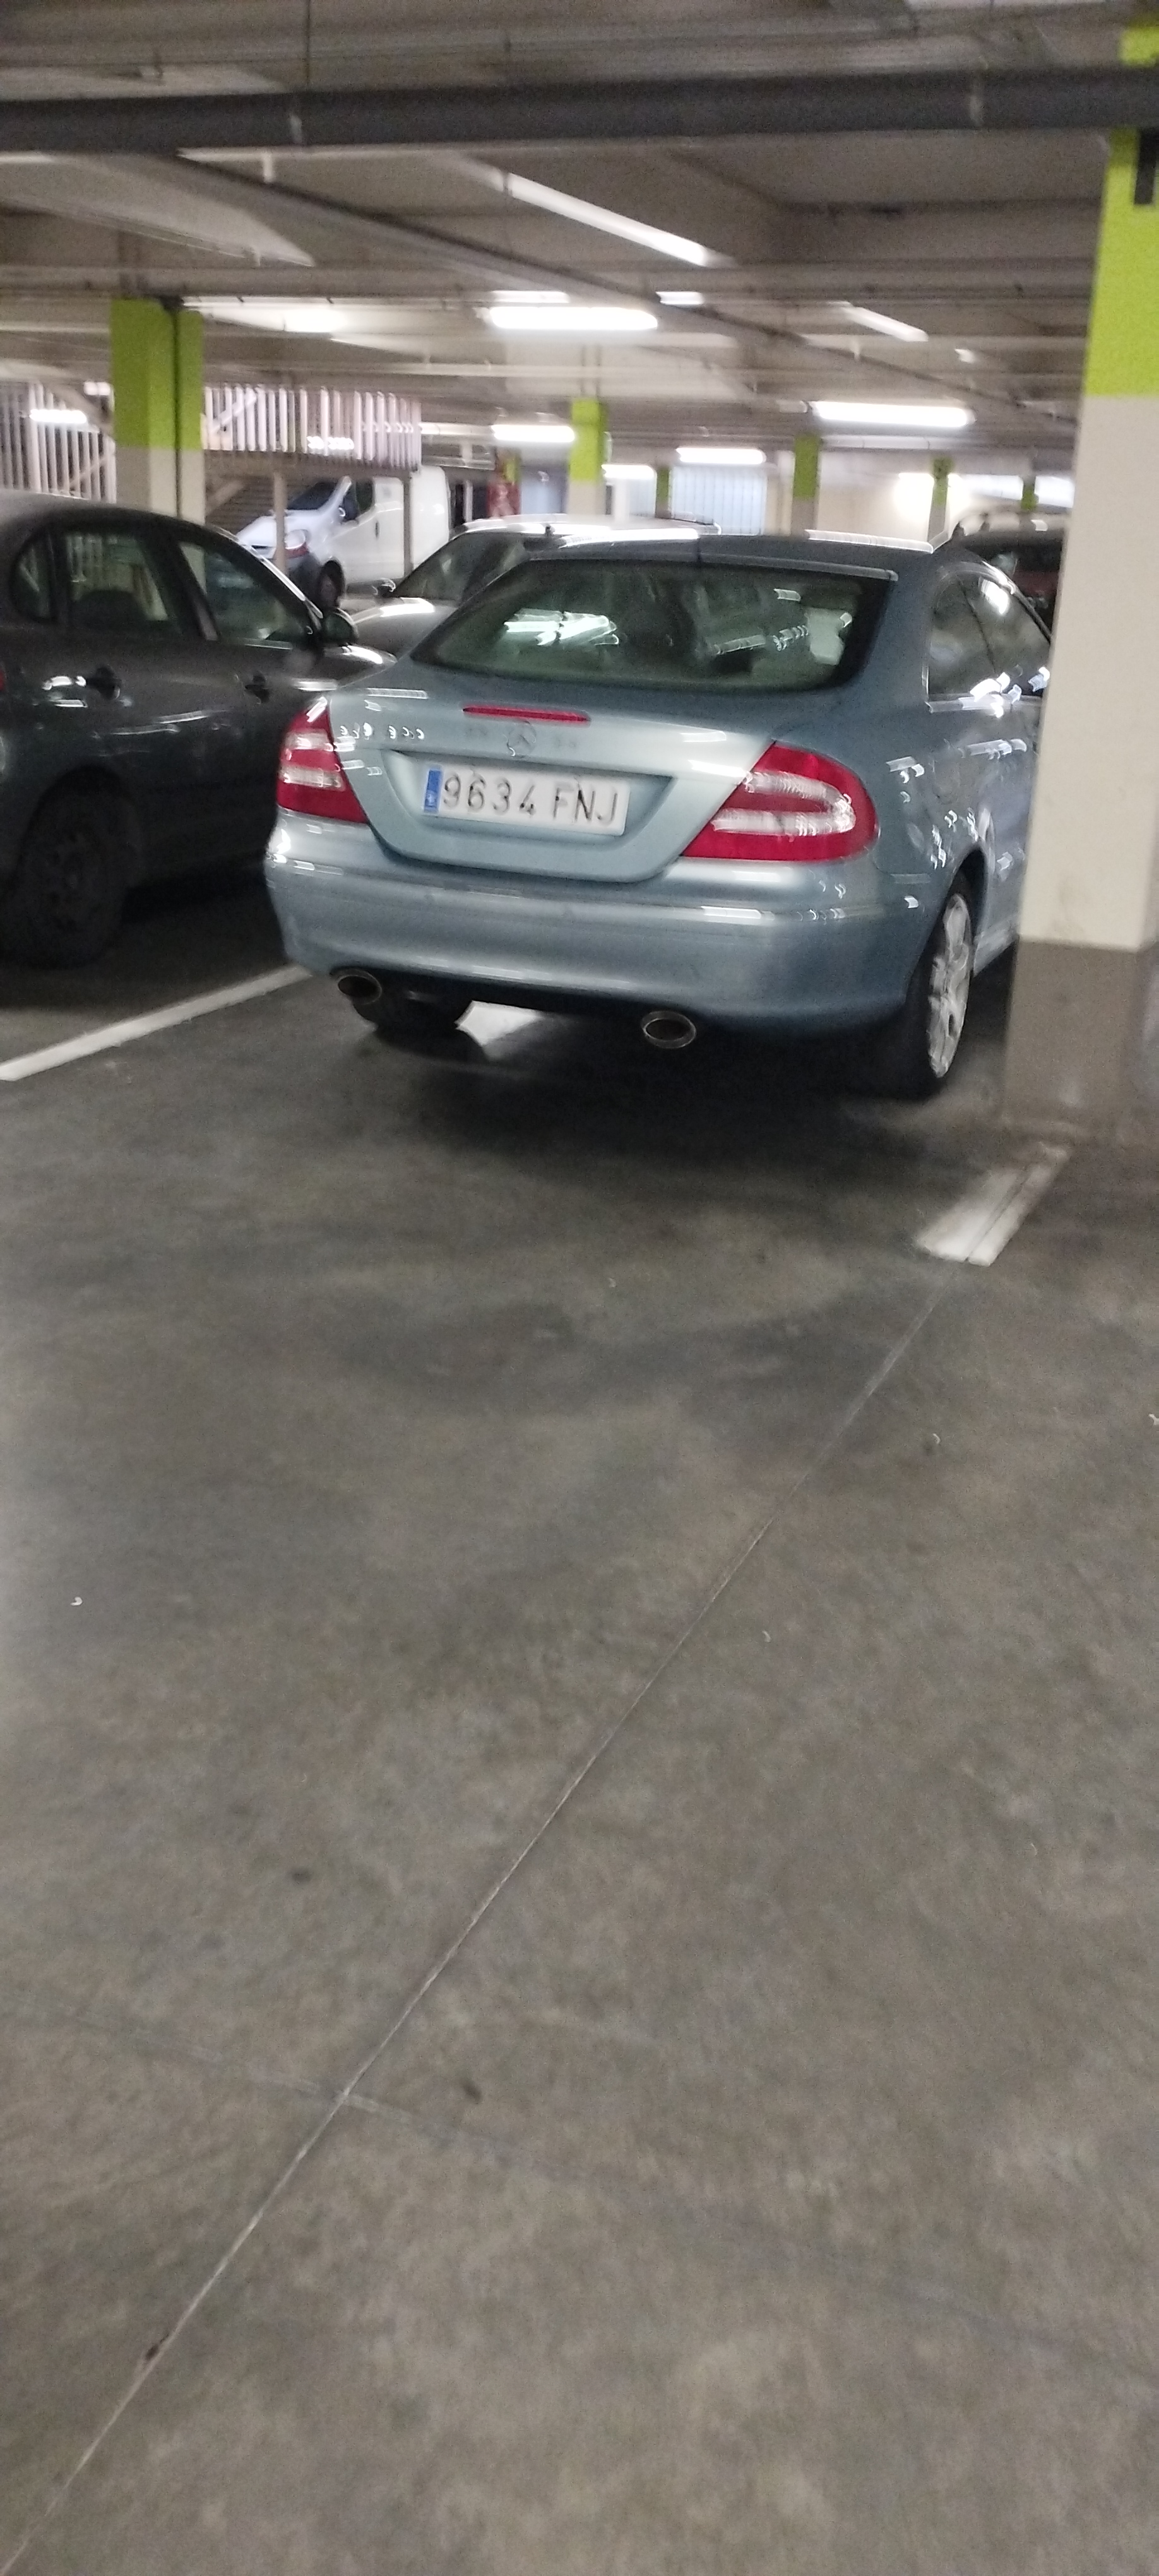Car: (280, 528, 1042, 1086)
Plate: (420, 765, 626, 825)
